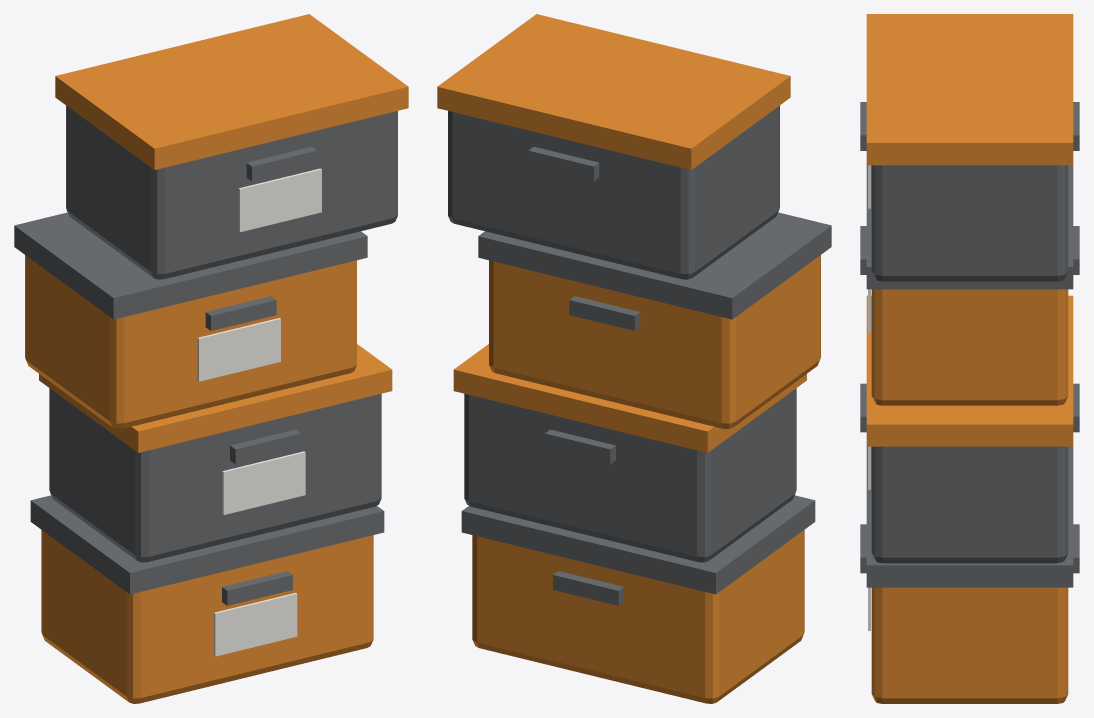
The model's file is self-storage-facility-and-loading-bay-self-storage-fac-c193806b__34719.glb.
3 views of the same model, side by side, from view 1: azimuth 30°, elevation 25°; view 2: azimuth 150°, elevation 25°; view 3: azimuth 270°, elevation 25° (orthographic). The views are drawn at different scales.
Visible parts, largest first — view 1: self-storage-facility-and-loading-bay-storage-crate-stack; view 2: self-storage-facility-and-loading-bay-storage-crate-stack; view 3: self-storage-facility-and-loading-bay-storage-crate-stack.
Boxes of the visible parts, bbox=[...] form: self-storage-facility-and-loading-bay-storage-crate-stack: bbox=[14, 14, 408, 703]; self-storage-facility-and-loading-bay-storage-crate-stack: bbox=[437, 14, 831, 703]; self-storage-facility-and-loading-bay-storage-crate-stack: bbox=[860, 14, 1079, 703].
Bounding box in the file's own units: 0.72 × 1.3 × 0.446.
